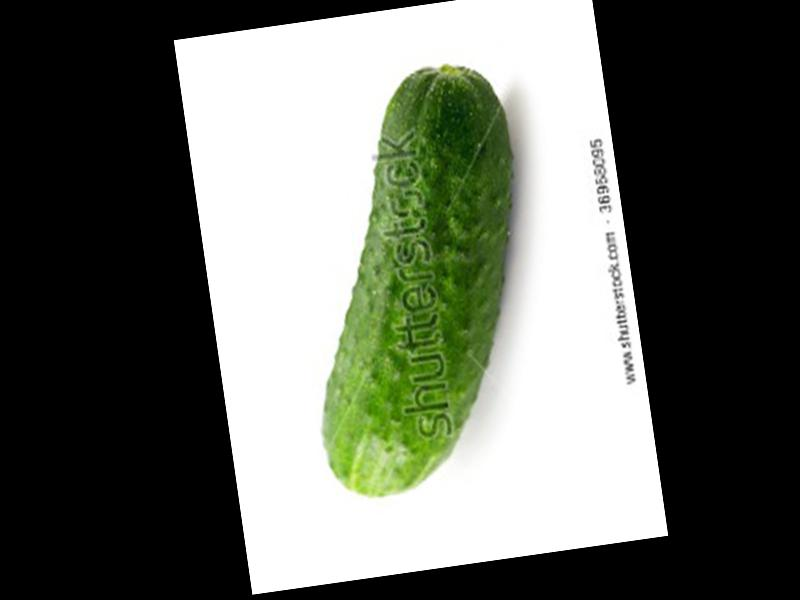Cucumber: (272, 58, 558, 503)
